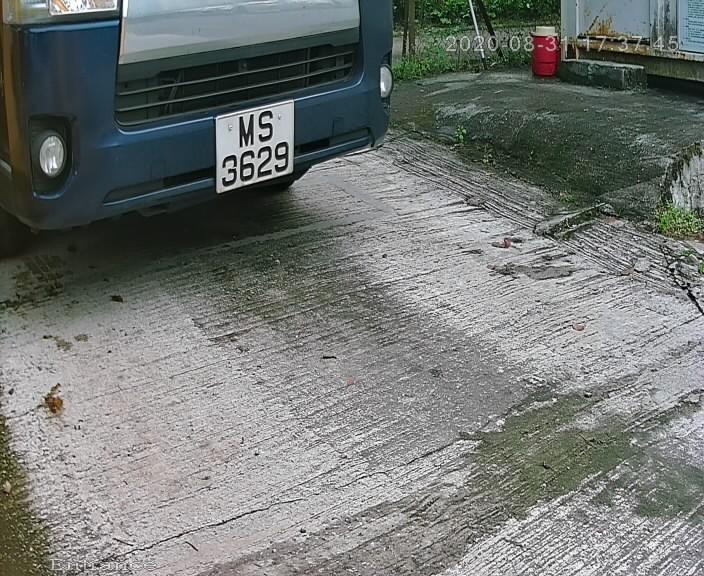Car: (16, 3, 434, 291)
License Plate: (208, 96, 305, 193)
